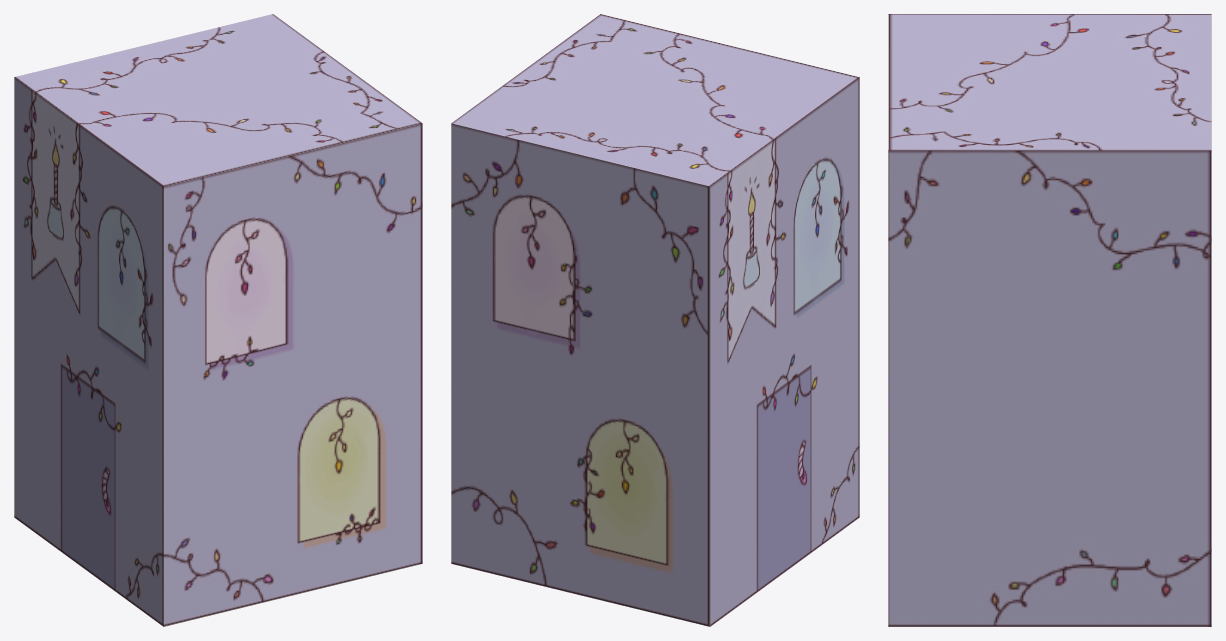
File: building_light.fbx
The picture shows the model from 3 angles, left to right: view 1: azimuth 30°, elevation 25°; view 2: azimuth 150°, elevation 25°; view 3: azimuth 270°, elevation 25°; orthographic projection. The views are drawn at different scales.
Parts seen in each view (by area): view 1: Box002; view 2: Box002; view 3: Box002.
Part boxes in pixels (x1,y1,x2,y2): Box002: (14, 14, 422, 626); Box002: (451, 14, 859, 626); Box002: (888, 14, 1211, 626).
Bounding box in the file's own units: 80 × 130 × 80.
Materials: 1 (1 with a texture image).
